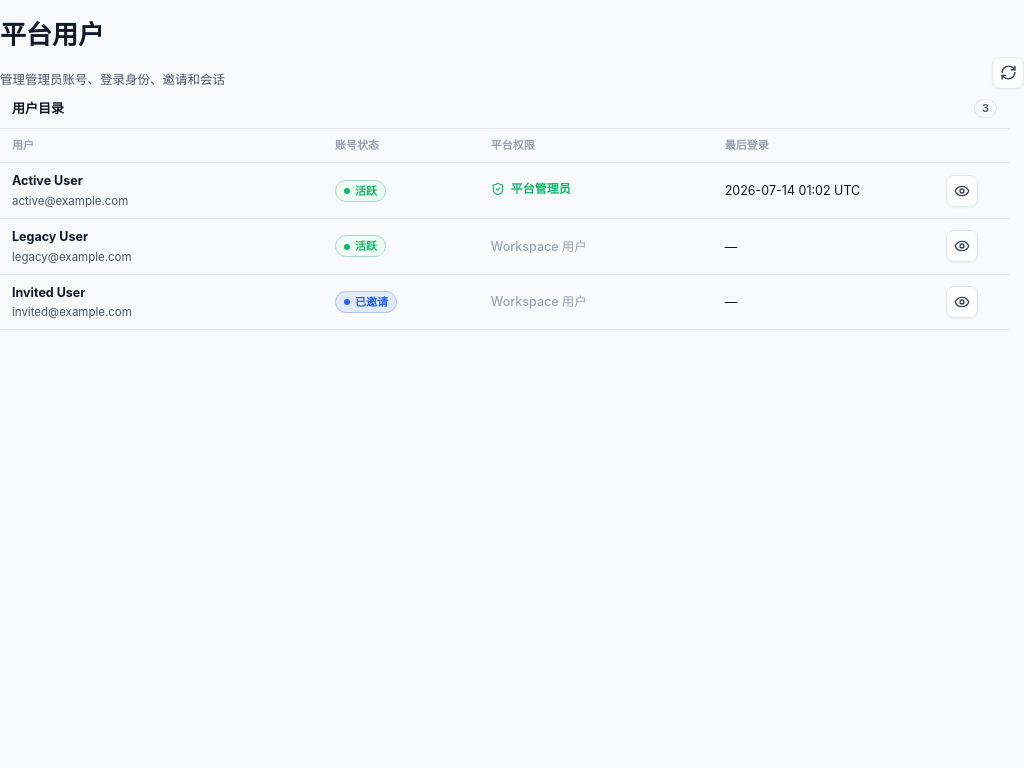
AdminUsersPage › aligns migration eligibility for invited exact retry
The image size is (1024, 768).
Click the button named "查看 Legacy User".
click(962, 246)  # box [946,230,978,262]
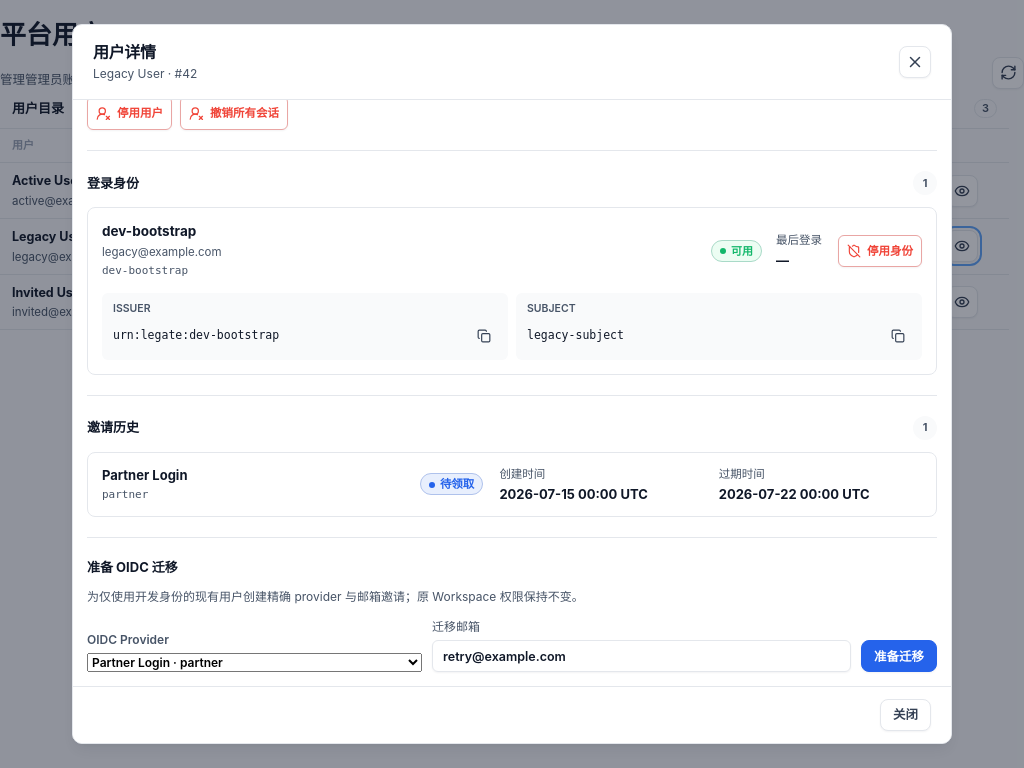
Expected: the heading "准备 OIDC 迁移" is shown, [87,559,178,575]
Expected: the dropdown named "OIDC Provider" shows "Partner Login · partner", [87,653,422,672]
Expected: the field named "迁移邮箱" holds "retry@example.com", [432,640,851,672]
